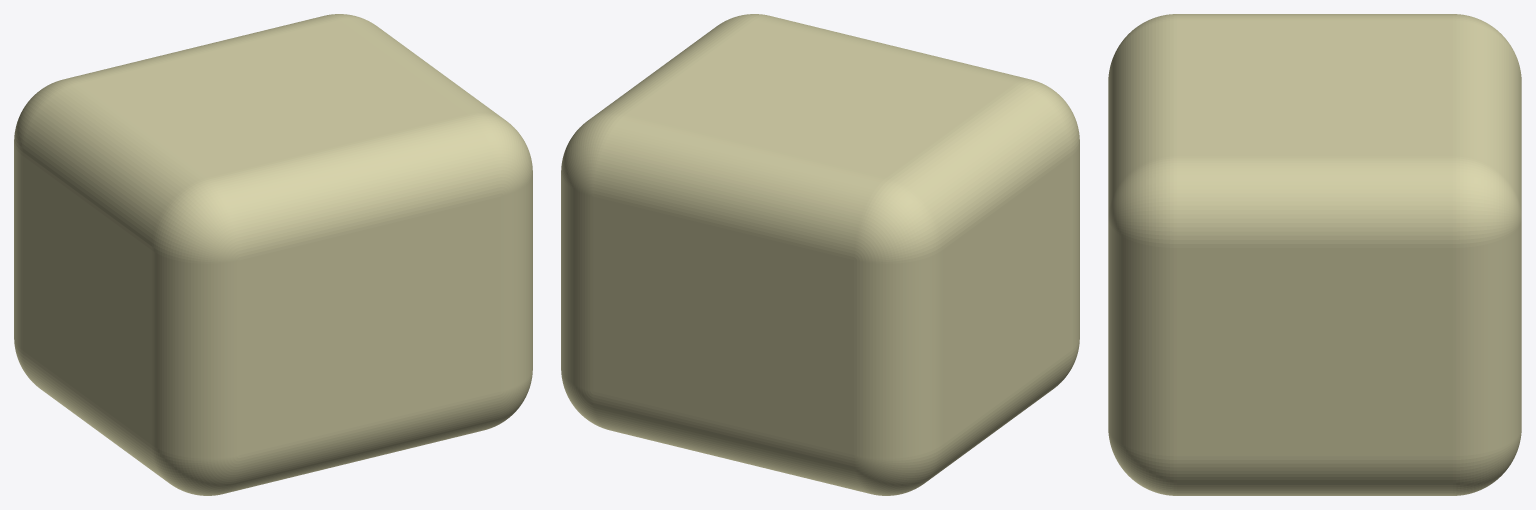
The model's file is rounded_cuboid.glb.
3 views of the same model, side by side, from view 1: azimuth 30°, elevation 25°; view 2: azimuth 150°, elevation 25°; view 3: azimuth 270°, elevation 25° (orthographic). The views are drawn at different scales.
Visible parts, largest first — view 1: world; view 2: world; view 3: world.
Part boxes in pixels (x1,y1,x2,y2): world: (14, 14, 532, 495); world: (561, 14, 1079, 495); world: (1108, 14, 1521, 495).
Size of the model in its own units: 20 by 16 by 18.
